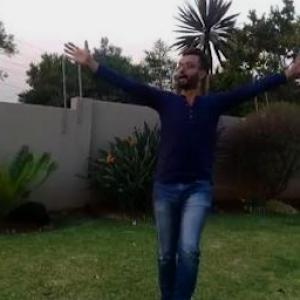takeoff: (63, 27, 299, 296)
